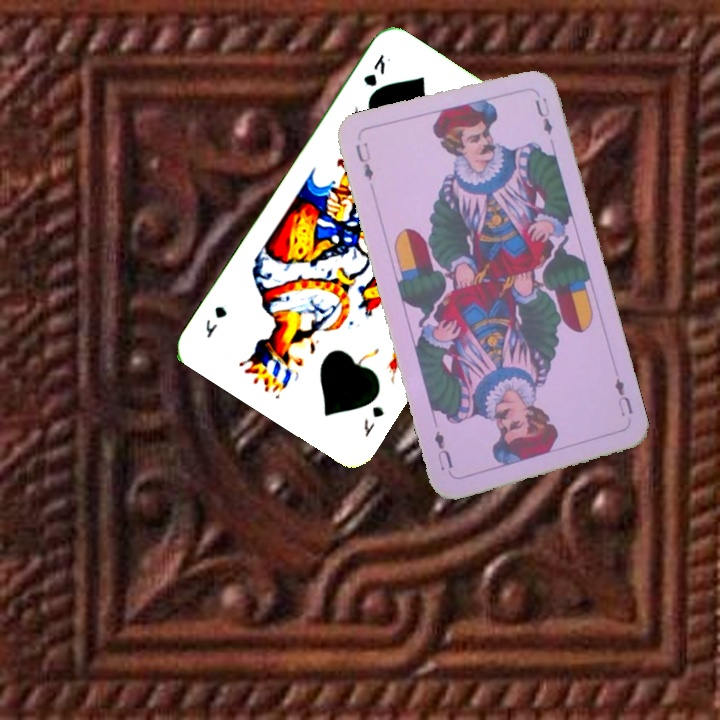EU: (610, 374, 635, 419), (351, 138, 376, 183)
GK: (359, 50, 388, 90), (359, 402, 387, 440)
